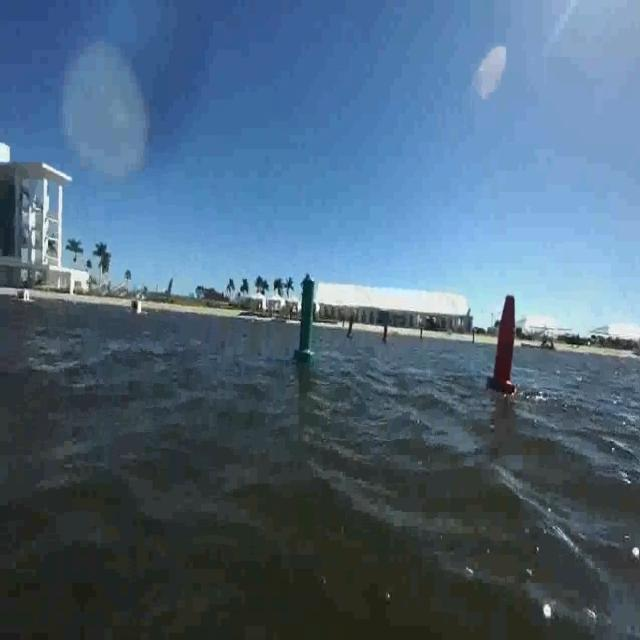green-column-buoy: (294, 274, 318, 362)
red-column-buoy: (487, 293, 518, 396), (382, 321, 390, 344)
